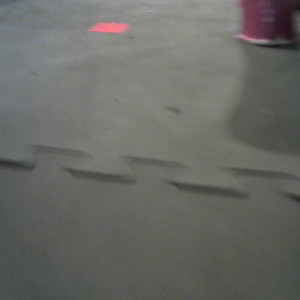Right: (238, 1, 295, 46)
